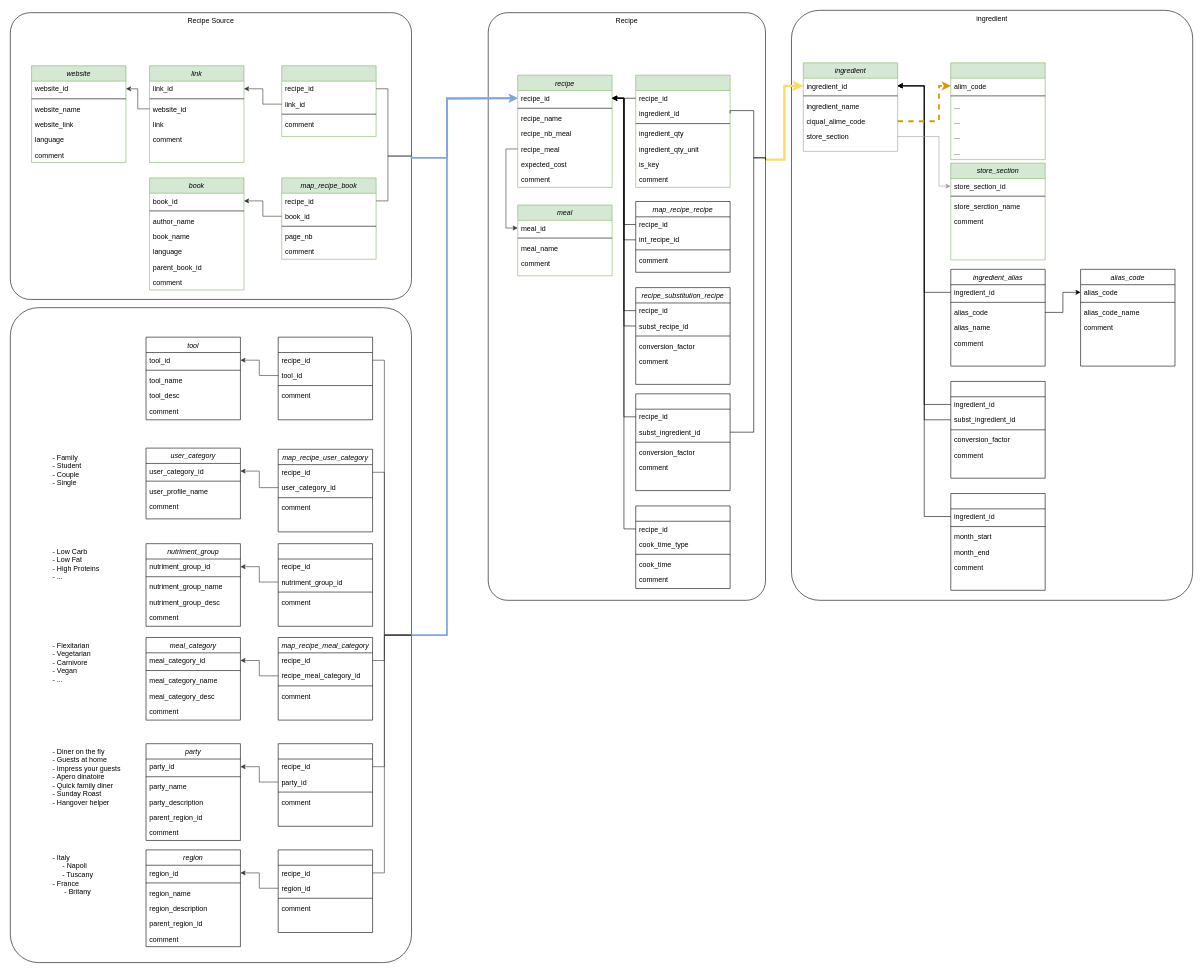
Image size: 1203x973. Some labels were removed from this diagram. The shapes that lost their labels are listed below. From the top down, each one's box as (x1, y1, x2, y2) in pixels, then its label:
(281, 65, 376, 137): map_recipe_link
(950, 62, 1045, 160): ciqual
(635, 75, 730, 187): map_recipe_ingredient
(278, 337, 373, 420): map_recipe_tool
(635, 393, 730, 491): recipe_substitution_ingredient
(950, 381, 1045, 478): ingredient_substitution
(635, 505, 730, 589): recipe_time
(950, 493, 1045, 590): ingredient_season
(278, 543, 373, 626): map_recipe_nutriment_group
(10, 307, 412, 963): recipe_categorisation
(278, 743, 373, 826): map_recipe_party
(278, 849, 373, 932): map_recipe_region
